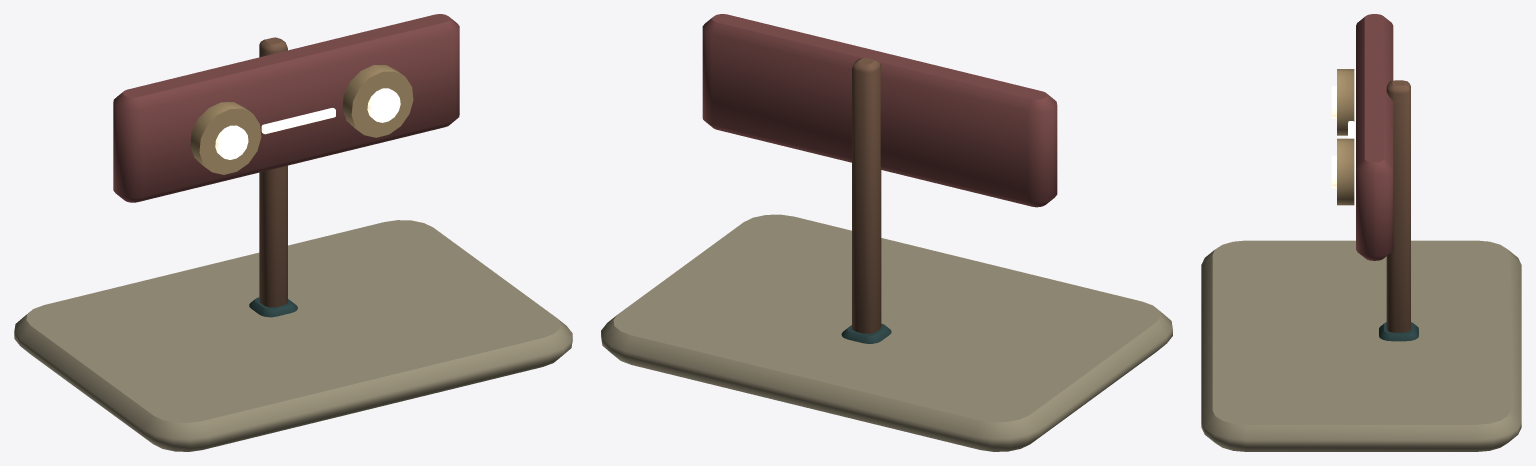
The model's file is event_classic_rally.glb.
3 views of the same model, side by side, from view 1: azimuth 30°, elevation 25°; view 2: azimuth 150°, elevation 25°; view 3: azimuth 270°, elevation 25° (orthographic). The views are drawn at different scales.
Visible parts, largest first — view 1: EventClassicRally; view 2: EventClassicRally; view 3: EventClassicRally.
Boxes of the visible parts, <box> form: EventClassicRally: <box>14,14,572,451</box>; EventClassicRally: <box>601,14,1172,451</box>; EventClassicRally: <box>1201,14,1521,451</box>.
Bounding box in the file's own units: 2.45 × 1.63 × 1.71.
